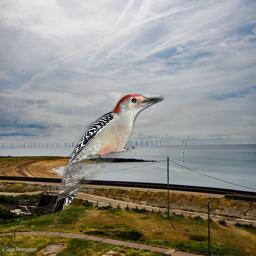Woodpecker: (52, 93, 164, 215)
